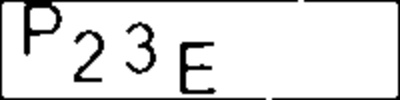2: (71, 27, 108, 85)
3: (124, 21, 160, 75)
E: (176, 38, 225, 100)
P: (21, 1, 66, 61)
